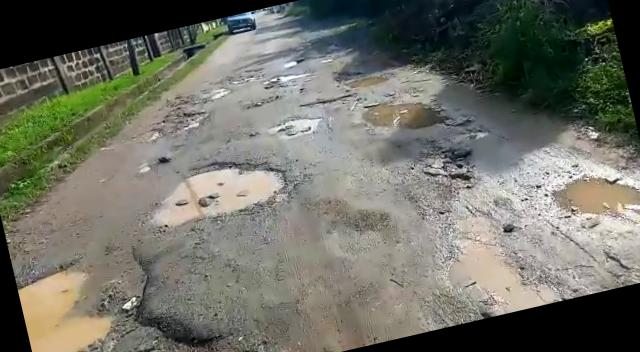pothole: (12, 221, 229, 352), (142, 146, 298, 234), (546, 162, 640, 232), (360, 88, 449, 140), (411, 142, 476, 196), (140, 104, 212, 142), (267, 112, 321, 142), (297, 89, 361, 112), (262, 64, 314, 88), (340, 70, 390, 92), (239, 92, 284, 111)
